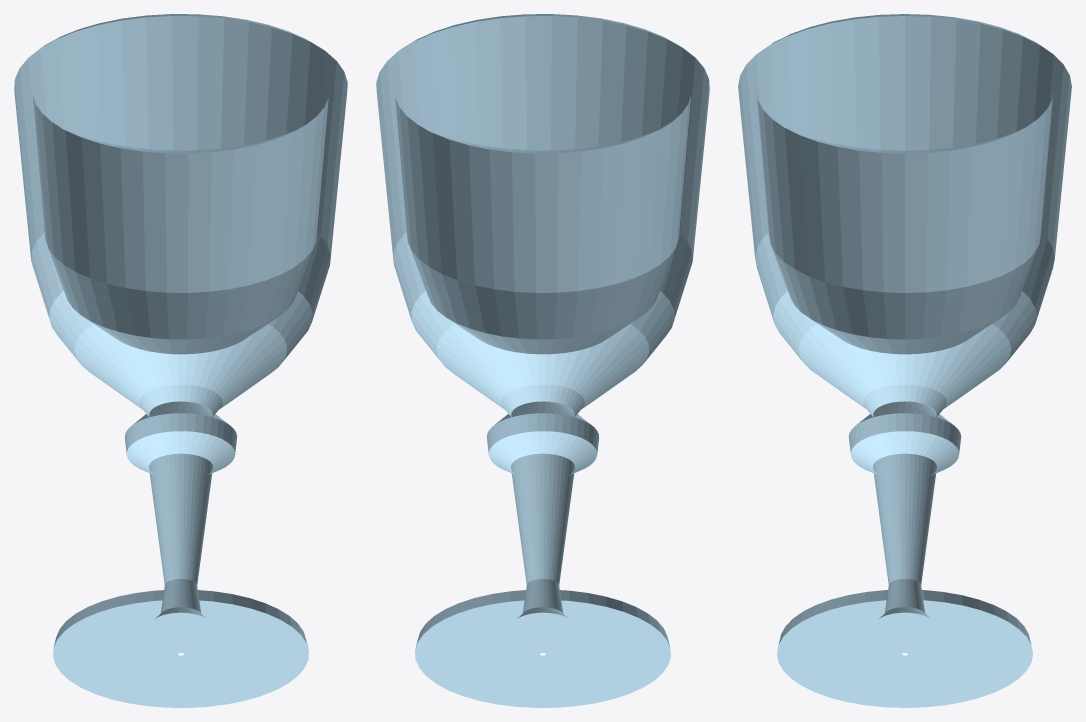
Rendered from glass_from_asc.gltf.
3 renders of one model, left to right at view 1: azimuth 30°, elevation 25°; view 2: azimuth 150°, elevation 25°; view 3: azimuth 270°, elevation 25°, orthographic.
Bounding box in the file's own units: 0.7632 × 1.44 × 0.7632.
